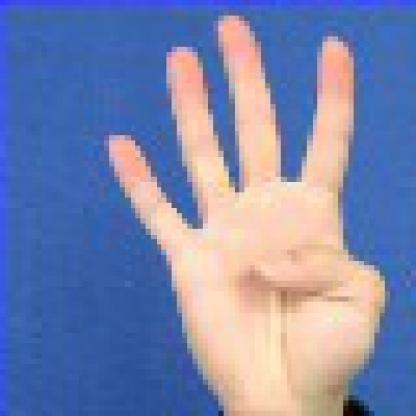four: (91, 7, 404, 396)
